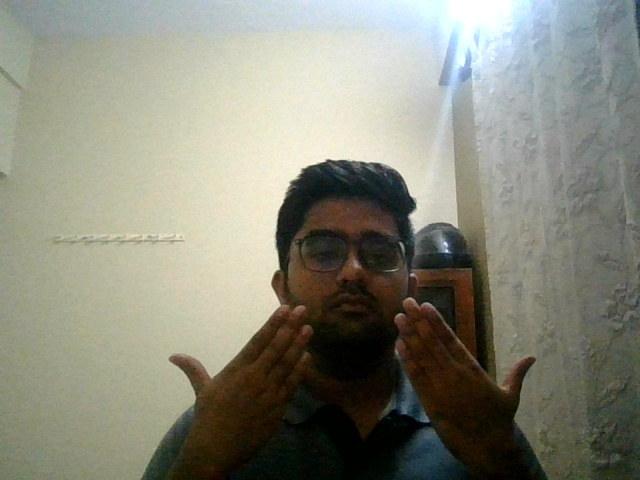Thank You: (161, 294, 579, 479)
